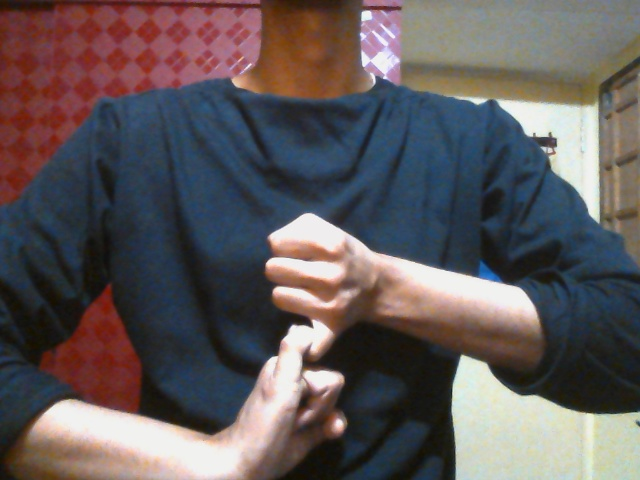S: (231, 210, 379, 480)
